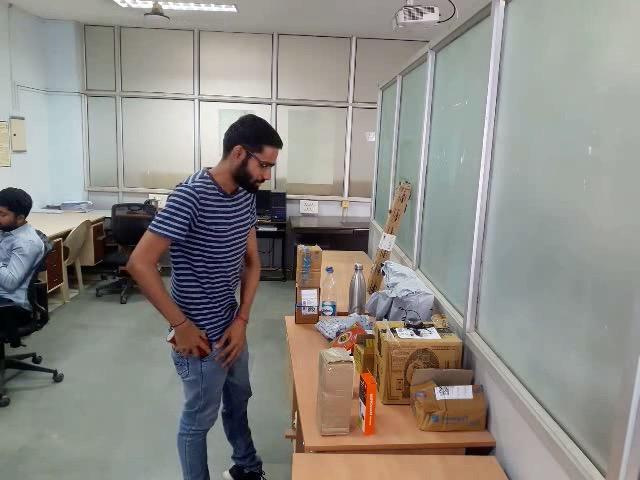shoplifting: (117, 296, 294, 393)
